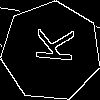K: (26, 26, 74, 64)
